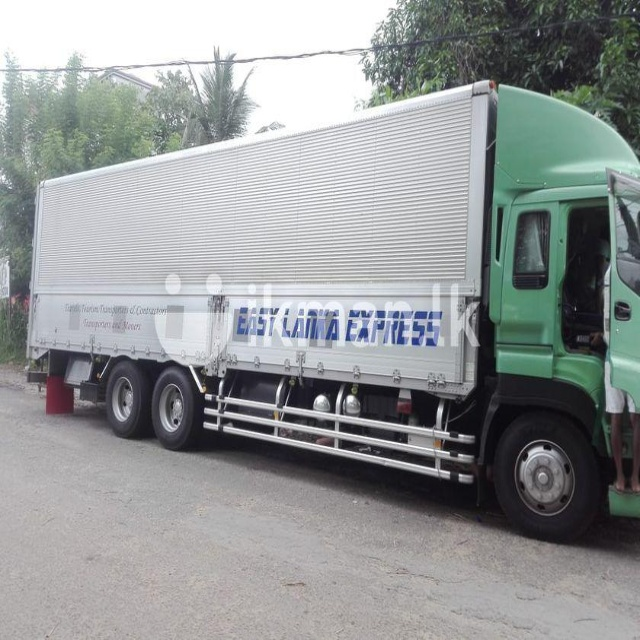Truck: (25, 76, 640, 547)
